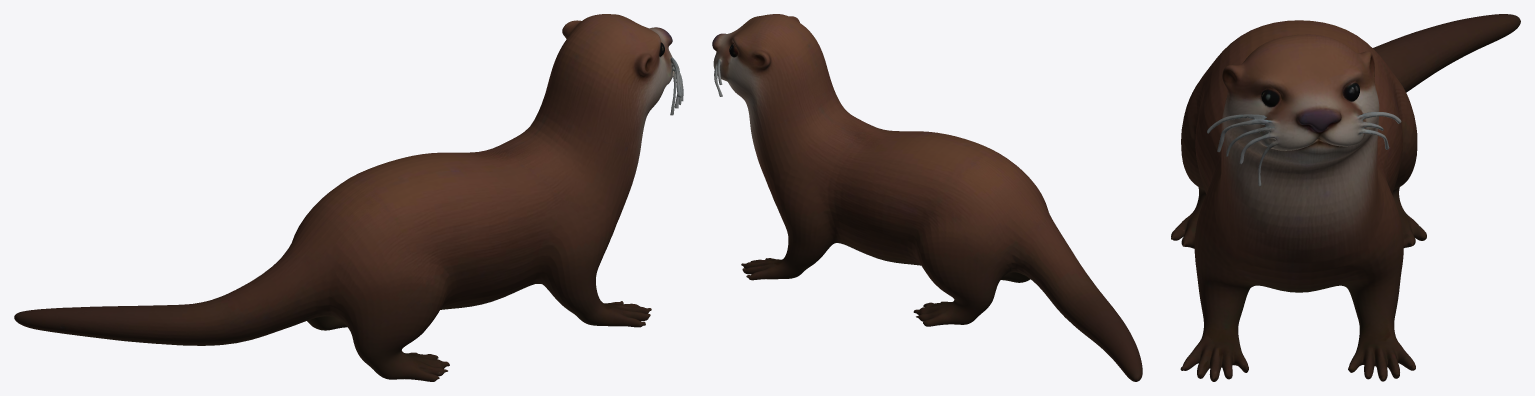
3 renders of one model, left to right at view 1: azimuth 30°, elevation 25°; view 2: azimuth 150°, elevation 25°; view 3: azimuth 270°, elevation 25°, orthographic. The views are drawn at different scales.
Parts seen in each view (by area): view 1: tripo_node_83a6dbfd; view 2: tripo_node_83a6dbfd; view 3: tripo_node_83a6dbfd.
Boxes of the visible parts, left/top/right/bottom form: tripo_node_83a6dbfd: left=14, top=14, right=683, bottom=381; tripo_node_83a6dbfd: left=712, top=14, right=1142, bottom=381; tripo_node_83a6dbfd: left=1171, top=14, right=1520, bottom=381.
Bounding box in the file's own units: 1 × 0.4471 × 0.4142.
1 material, 1 textured.
